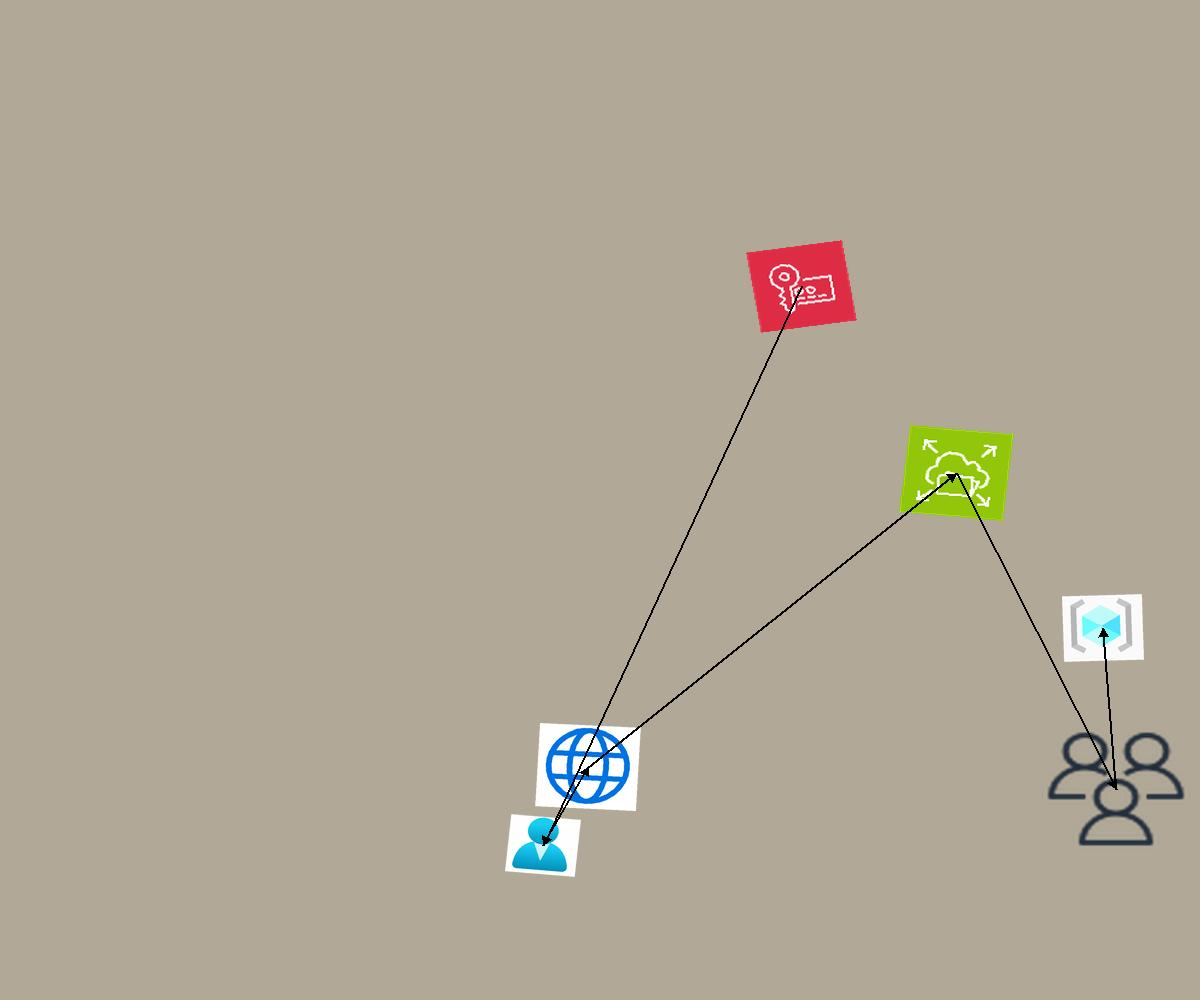AWS-EFS: (898, 424, 1015, 522)
AWS-Key-Management-Service: (746, 240, 857, 333)
AWS-Res_Users: (1039, 725, 1193, 853)
Azure_http: (535, 723, 641, 811)
Azure_resource_group: (1062, 594, 1144, 662)
Azure_users: (505, 814, 581, 877)
